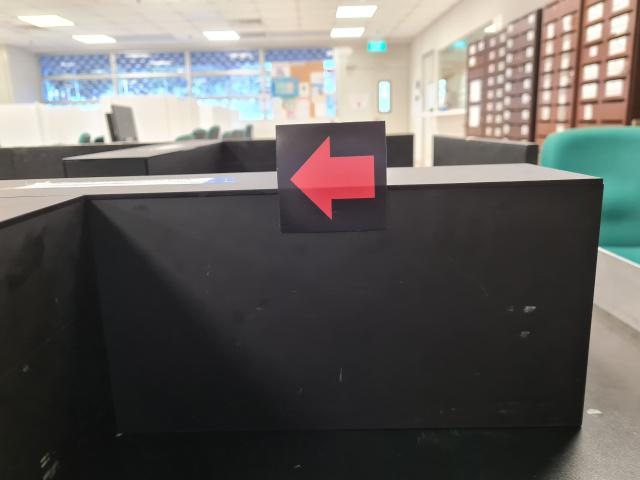left: (275, 119, 387, 233)
